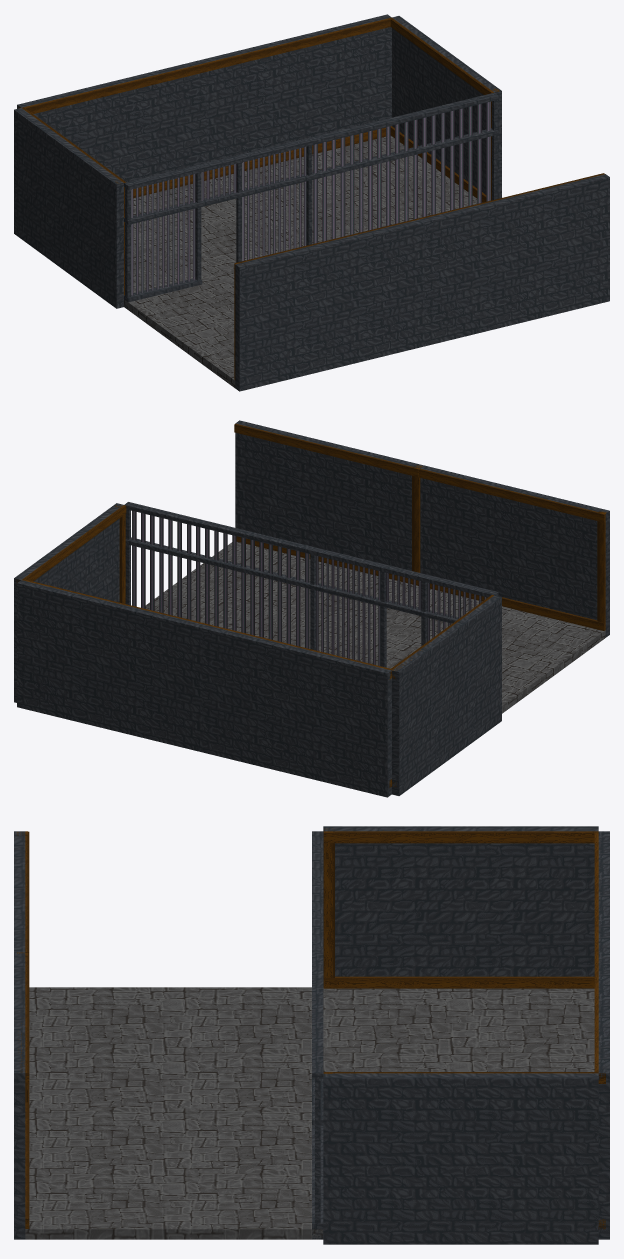
Rendered from Flur Gefaengnis V3.fbx.
3 renders of one model, top to bottom at view 1: azimuth 30°, elevation 25°; view 2: azimuth 150°, elevation 25°; view 3: azimuth 270°, elevation 25°, orthographic. The views are drawn at different scales.
Parts seen in each view (by area): view 1: Flur Gefängnis V3.007, Flur Gefängnis V3.006, Flur Gefängnis V3.009, Flur Gefängnis V3.011, Flur Gefängnis V3.010, Flur Gefängnis V3.005, Flur Gefängnis V3.004, Flur Gefängnis V3.008, Flur Gefängnis V3.001, Flur Gefängnis V3.002, Flur Gefängnis V3; view 2: Flur Gefängnis V3.010, Flur Gefängnis V3.009, Flur Gefängnis V3.007, Flur Gefängnis V3.006, Flur Gefängnis V3.011, Flur Gefängnis V3.004, Flur Gefängnis V3, Flur Gefängnis V3.005, Flur Gefängnis V3.003, Flur Gefängnis V3.008; view 3: Flur Gefängnis V3.008, Flur Gefängnis V3.011, Flur Gefängnis V3.003, Flur Gefängnis V3, Flur Gefängnis V3.002, Flur Gefängnis V3.006, Flur Gefängnis V3.009, Flur Gefängnis V3.004, Flur Gefängnis V3.007, Flur Gefängnis V3.010, Flur Gefängnis V3.005.
Boxes of the visible parts, <box> form: Flur Gefängnis V3.007: <box>234,218,424,391</box>; Flur Gefängnis V3.006: <box>419,173,609,346</box>; Flur Gefängnis V3.009: <box>202,14,391,179</box>; Flur Gefängnis V3.011: <box>14,107,126,308</box>; Flur Gefängnis V3.010: <box>17,59,207,198</box>; Flur Gefängnis V3.005: <box>124,138,313,309</box>; Flur Gefängnis V3.004: <box>309,92,498,243</box>; Flur Gefängnis V3.008: <box>389,16,501,202</box>; Flur Gefängnis V3.001: <box>209,136,477,246</box>; Flur Gefängnis V3.002: <box>124,180,298,309</box>; Flur Gefängnis V3: <box>128,277,235,387</box>; Flur Gefängnis V3.010: <box>202,624,392,797</box>; Flur Gefängnis V3.009: <box>17,579,207,752</box>; Flur Gefängnis V3.007: <box>419,465,609,637</box>; Flur Gefängnis V3.006: <box>234,420,424,585</box>; Flur Gefängnis V3.011: <box>390,595,501,795</box>; Flur Gefängnis V3.004: <box>124,502,312,648</box>; Flur Gefängnis V3: <box>329,586,605,713</box>; Flur Gefängnis V3.005: <box>309,547,498,667</box>; Flur Gefängnis V3.003: <box>145,541,418,652</box>; Flur Gefängnis V3.008: <box>14,503,126,702</box>; Flur Gefängnis V3.008: <box>323,1072,598,1244</box>; Flur Gefängnis V3.011: <box>323,826,598,988</box>; Flur Gefängnis V3.003: <box>25,1108,311,1239</box>; Flur Gefängnis V3: <box>29,987,311,1108</box>; Flur Gefängnis V3.002: <box>323,987,594,1072</box>; Flur Gefängnis V3.006: <box>14,952,29,1239</box>; Flur Gefängnis V3.009: <box>594,952,609,1239</box>; Flur Gefängnis V3.004: <box>312,952,323,1239</box>; Flur Gefängnis V3.007: <box>14,831,29,1097</box>; Flur Gefängnis V3.010: <box>594,831,609,952</box>; Flur Gefängnis V3.005: <box>312,831,323,952</box>.
Size of the model in its own units: 1040 by 1040 by 320.
Materials: 2 (2 with a texture image).
